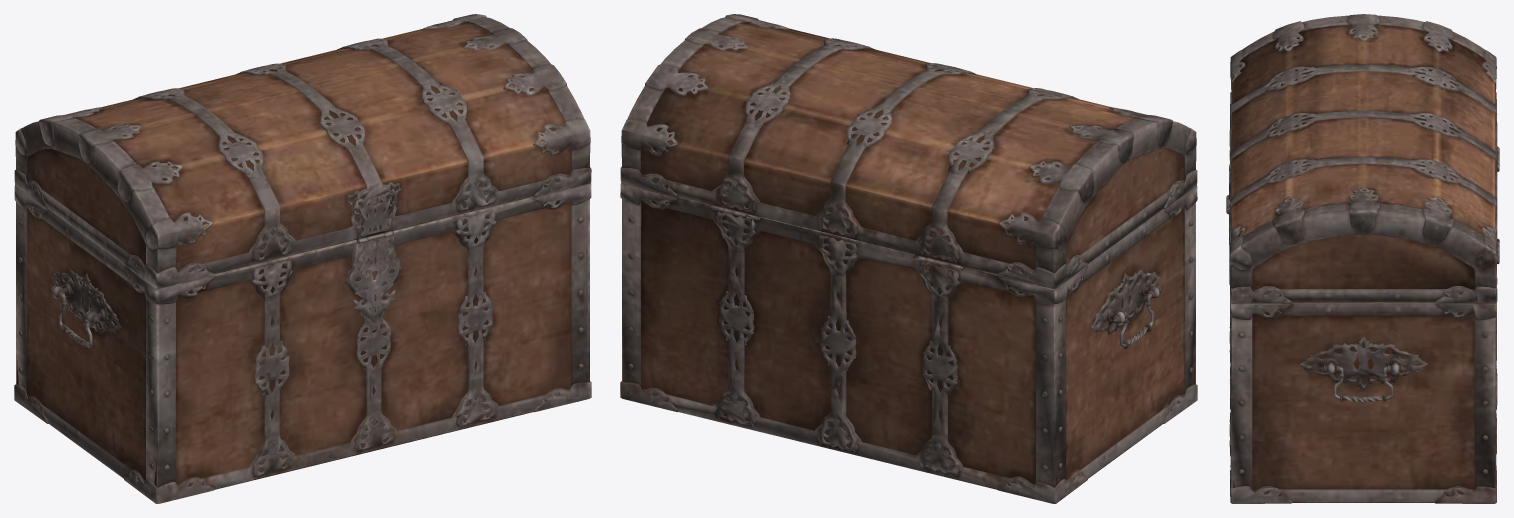
The model's file is treasure_chest.glb.
3 renders of one model, left to right at view 1: azimuth 30°, elevation 25°; view 2: azimuth 150°, elevation 25°; view 3: azimuth 270°, elevation 25°, orthographic. The views are drawn at different scales.
Visible parts, largest first — view 1: treasure_chest_bottom, treasure_chest_lid, treasure_chest_lock, treasure_chest_handle_left; view 2: treasure_chest_bottom, treasure_chest_lid; view 3: treasure_chest_lid, treasure_chest_bottom, treasure_chest_handle_right.
Boxes of the visible parts, <box> form: treasure_chest_bottom: <box>14,183,591,503</box>; treasure_chest_lid: <box>14,14,591,288</box>; treasure_chest_lock: <box>349,233,399,322</box>; treasure_chest_handle_left: <box>50,285,100,348</box>; treasure_chest_bottom: <box>620,183,1197,503</box>; treasure_chest_lid: <box>620,14,1197,288</box>; treasure_chest_lid: <box>1226,14,1499,303</box>; treasure_chest_bottom: <box>1229,152,1499,503</box>; treasure_chest_handle_right: <box>1320,365,1406,402</box>.
Size of the model in its own units: 0.959 by 0.6187 by 0.5223.
Materials: 1 (1 with a texture image).
